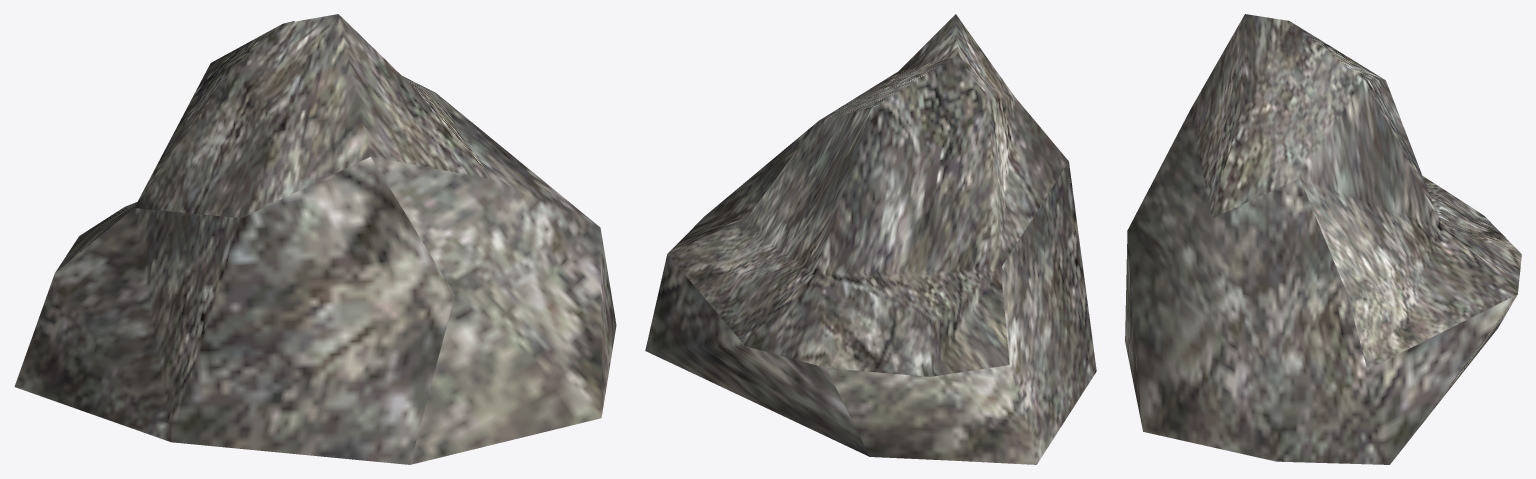
Rendered from wrld_rock_highland2.glb.
The picture shows the model from 3 angles, left to right: view 1: azimuth 30°, elevation 25°; view 2: azimuth 150°, elevation 25°; view 3: azimuth 270°, elevation 25°; orthographic projection. The views are drawn at different scales.
Parts seen in each view (by area): view 1: wrld_rock_highland2; view 2: wrld_rock_highland2; view 3: wrld_rock_highland2.
Boxes of the visible parts, x1=… form: wrld_rock_highland2: x1=14, y1=14, x2=616, y2=464; wrld_rock_highland2: x1=645, y1=14, x2=1096, y2=464; wrld_rock_highland2: x1=1125, y1=14, x2=1521, y2=464.
Bounding box in the file's own units: 3.37 × 2.59 × 2.76.
1 material, 1 textured.
